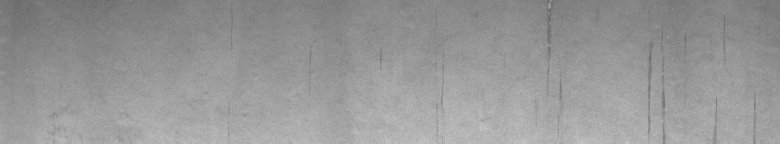ka: (644, 43, 756, 136)
